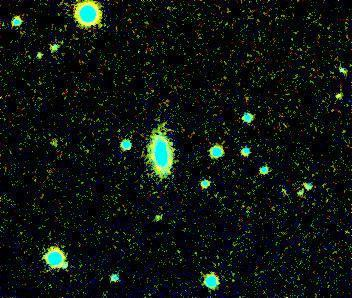star: (145, 202, 175, 232)
